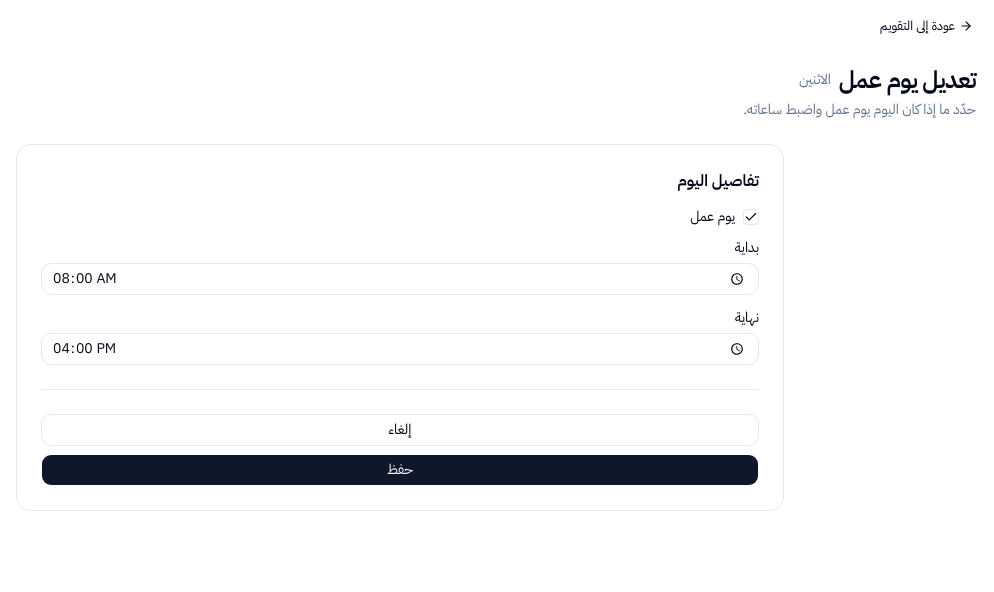
Test case: calendar weekday edit page › reseeds inputs from the fresh weekday projection after a 412 conflict
Expected: the checkbox named "يوم عمل" is checked, [743,209,759,225]
Expected: the time field labelled "بداية" holds "08:00", [41,263,759,295]
Click the button "حفظ": (400,470) [41,454,759,486]
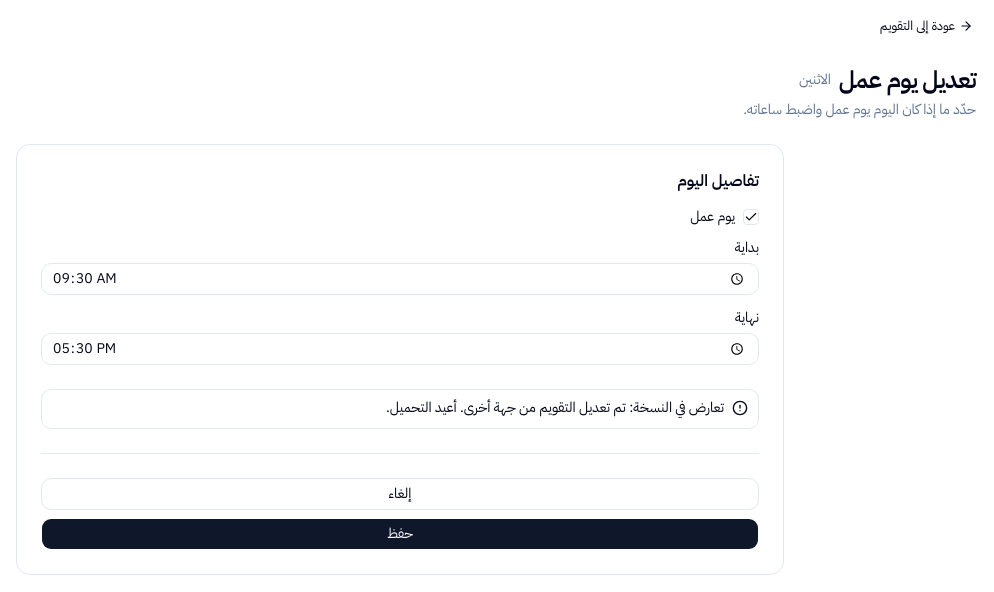
Now the text "تعارض في النسخة: تم تعديل التقويم من جهة أخرى. أعيد التحميل." is shown, box [386,397,724,418]
Now the time field labelled "بداية" holds "09:30", box [41,263,759,295]
Now the time field labelled "نهاية" holds "17:30", box [41,333,759,365]
